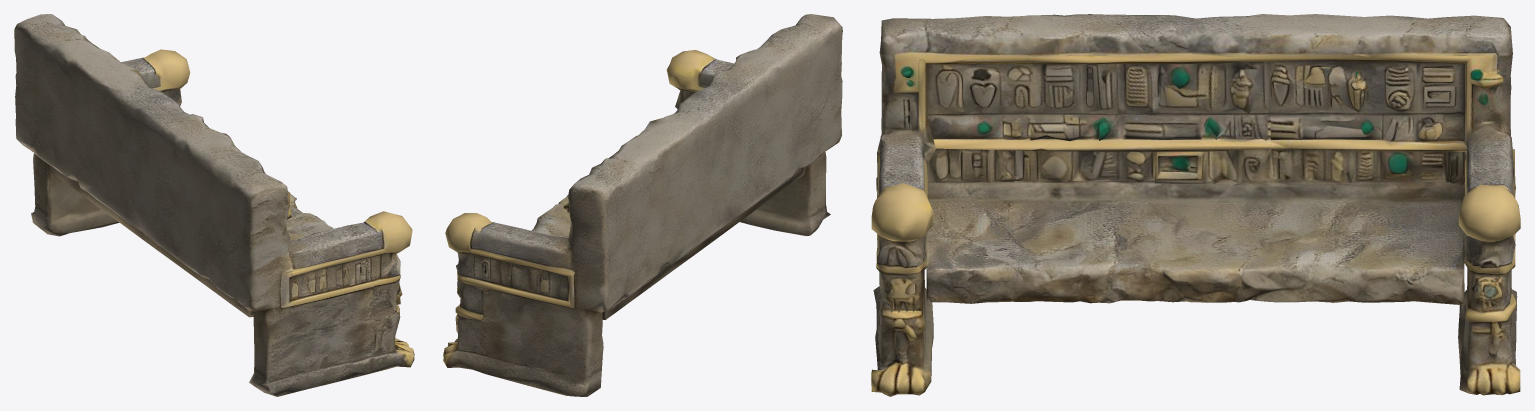
File: et_bench.glb
3 renders of one model, left to right at view 1: azimuth 30°, elevation 25°; view 2: azimuth 150°, elevation 25°; view 3: azimuth 270°, elevation 25°, orthographic. The views are drawn at different scales.
Visible parts, largest first — view 1: tripo_node_d25fb575-226a-4af5-8a1c-dc38d2245051; view 2: tripo_node_d25fb575-226a-4af5-8a1c-dc38d2245051; view 3: tripo_node_d25fb575-226a-4af5-8a1c-dc38d2245051.
Boxes of the visible parts, box(x1,y1,x2,y2) form: tripo_node_d25fb575-226a-4af5-8a1c-dc38d2245051: box(14, 14, 414, 396); tripo_node_d25fb575-226a-4af5-8a1c-dc38d2245051: box(443, 14, 842, 396); tripo_node_d25fb575-226a-4af5-8a1c-dc38d2245051: box(871, 14, 1520, 396).
Size of the model in its own units: 0.6069 by 0.75 by 1.54.
1 material, 1 textured.
